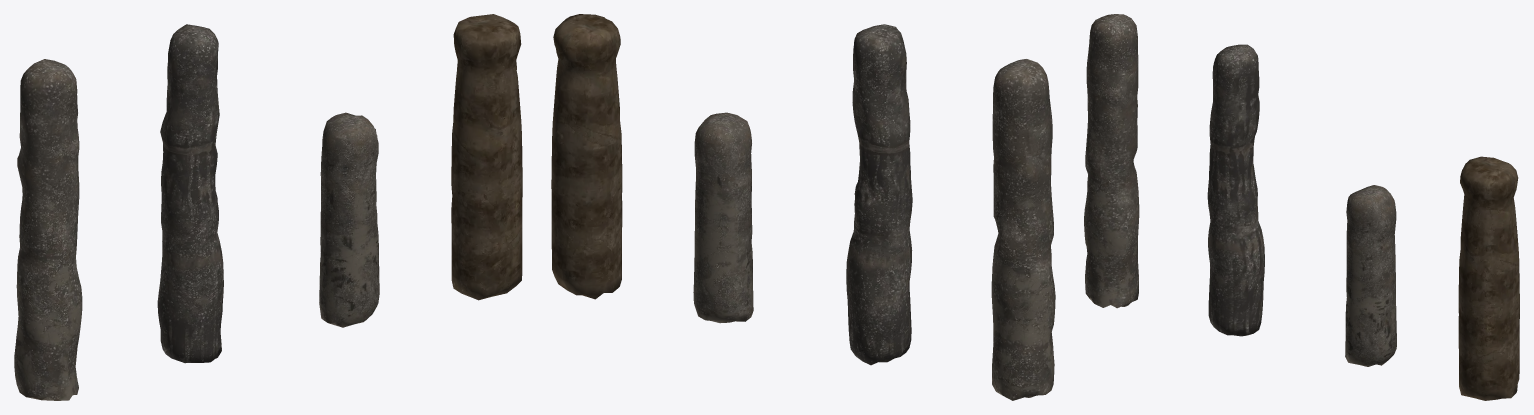
The model's file is ruin_columns.glb.
3 views of the same model, side by side, from view 1: azimuth 30°, elevation 25°; view 2: azimuth 150°, elevation 25°; view 3: azimuth 330°, elevation 25° (orthographic). The views are drawn at different scales.
Visible parts, largest first — view 1: round pillar 2 low, round pillar 4 low, round pillar low, rpund pillar3 low; view 2: round pillar 2 low, round pillar low, round pillar 4 low, rpund pillar3 low; view 3: round pillar 2 low, round pillar low, round pillar 4 low, rpund pillar3 low.
Part boxes in pixels (bbox=[...]): round pillar 2 low: bbox=[14, 59, 82, 400]; round pillar 4 low: bbox=[451, 14, 522, 300]; round pillar low: bbox=[157, 24, 223, 363]; rpund pillar3 low: bbox=[319, 112, 379, 327]; round pillar 2 low: bbox=[991, 59, 1055, 400]; round pillar low: bbox=[846, 24, 912, 365]; round pillar 4 low: bbox=[551, 14, 622, 299]; rpund pillar3 low: bbox=[693, 112, 753, 323]; round pillar 2 low: bbox=[1084, 14, 1139, 308]; round pillar low: bbox=[1207, 44, 1264, 336]; round pillar 4 low: bbox=[1458, 156, 1519, 400]; rpund pillar3 low: bbox=[1345, 185, 1396, 366].
Bounding box in the file's own units: 20.88 × 13.18 × 2.56.
4 materials, 4 textured.
